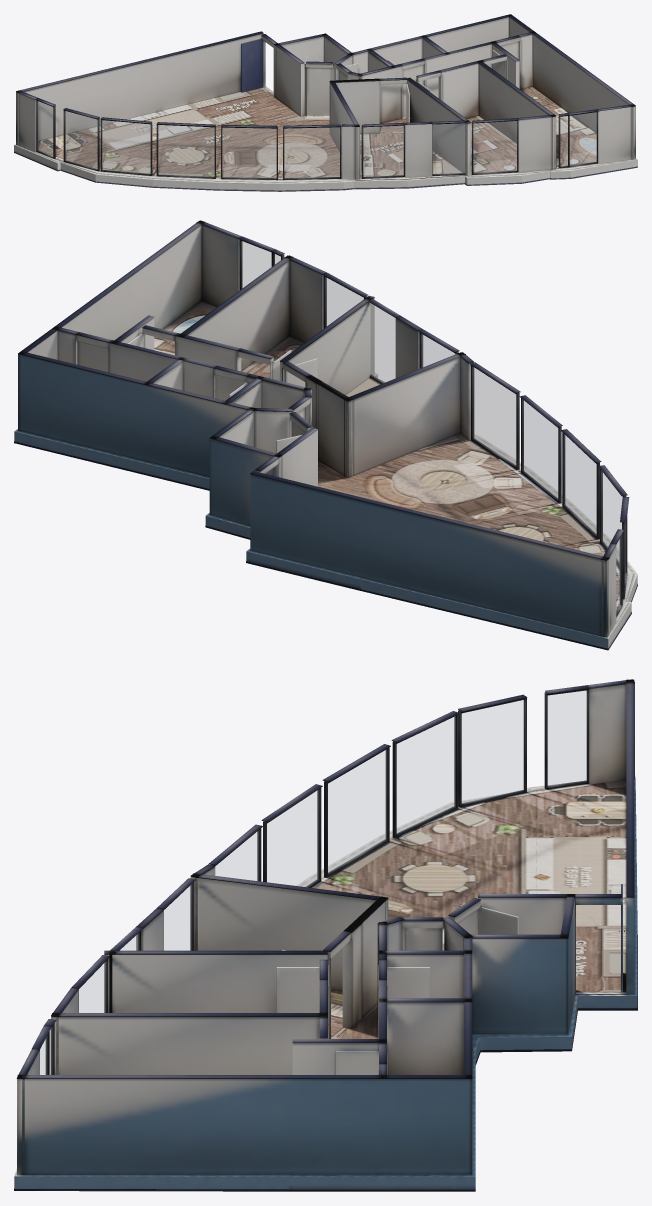
3 renders of one model, top to bottom at view 1: azimuth 30°, elevation 25°; view 2: azimuth 150°, elevation 25°; view 3: azimuth 270°, elevation 25°, orthographic. The views are drawn at different scales.
Parts seen in each view (by area): view 1: plan, glass3_m, glass5_m, glass4_m, glass2_m, glass8_m, glass6_m, glass1_m, glass7_m, glass9_m, glass0_m, glass10_m; view 2: plan, glass5_m, glass4_m, glass3_m, glass7_m, glass2_m, glass8_m, glass9_m; view 3: plan, glass1_m, glass2_m, glass3_m, glass4_m, glass0_m, glass6_m, glass5_m, glass8_m.
Part boxes in pixels (x1,y1,x2,y2): plan: [14, 14, 637, 191]; glass3_m: [158, 125, 214, 176]; glass5_m: [284, 127, 339, 178]; glass4_m: [222, 128, 276, 178]; glass2_m: [102, 120, 150, 173]; glass8_m: [473, 121, 516, 173]; glass6_m: [363, 126, 403, 176]; glass1_m: [65, 111, 97, 168]; glass7_m: [433, 123, 464, 174]; glass9_m: [570, 112, 596, 165]; glass0_m: [37, 101, 52, 156]; glass10_m: [560, 116, 567, 166]; plan: [14, 220, 637, 650]; glass5_m: [473, 367, 515, 465]; glass4_m: [523, 400, 557, 498]; glass3_m: [564, 434, 596, 534]; glass7_m: [371, 304, 395, 382]; glass2_m: [602, 472, 622, 561]; glass8_m: [326, 277, 363, 326]; glass9_m: [241, 241, 271, 288]; plan: [14, 679, 637, 1191]; glass1_m: [462, 700, 523, 803]; glass2_m: [397, 716, 455, 833]; glass3_m: [328, 750, 386, 873]; glass4_m: [267, 790, 318, 886]; glass0_m: [548, 690, 586, 785]; glass6_m: [164, 885, 191, 950]; glass5_m: [215, 831, 258, 880]; glass8_m: [79, 962, 105, 1012].
Bounding box in the file's own units: 20.25 × 2.62 × 13.29.
Materials: 2 (1 with a texture image).
